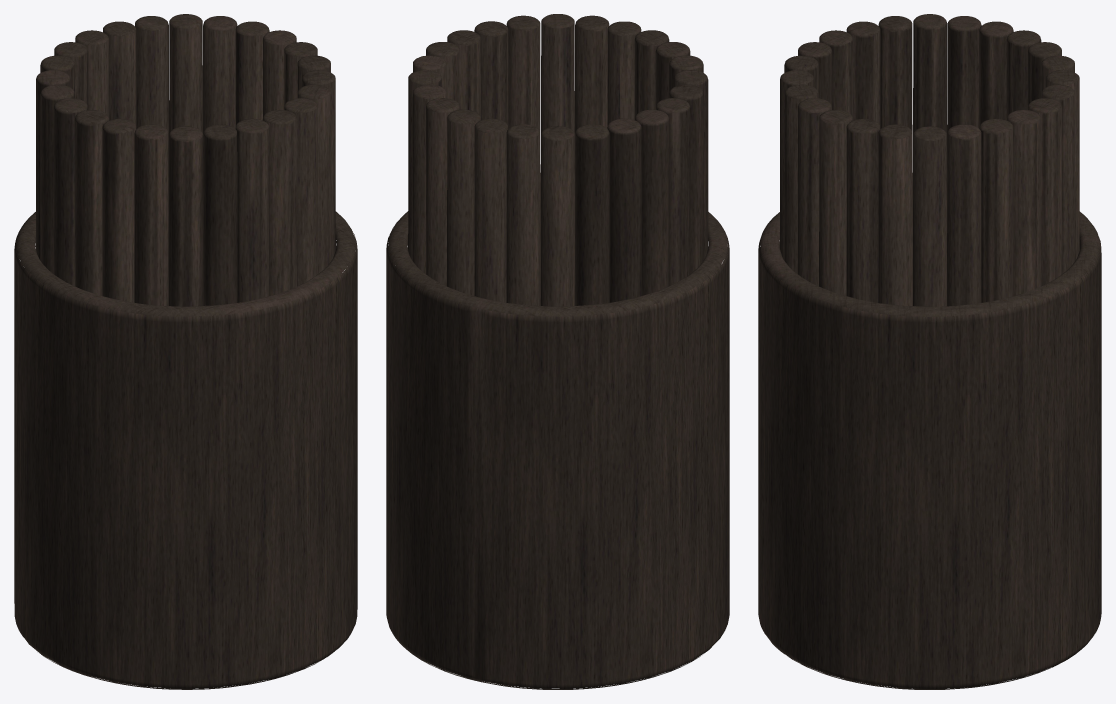
Rendered from queen-black.glb.
The picture shows the model from 3 angles, left to right: view 1: azimuth 30°, elevation 25°; view 2: azimuth 150°, elevation 25°; view 3: azimuth 270°, elevation 25°; orthographic projection.
Parts seen in each view (by area): view 1: Cylindra_Dáma_černý; view 2: Cylindra_Dáma_černý; view 3: Cylindra_Dáma_černý.
Part boxes in pixels (bbox=[...]): Cylindra_Dáma_černý: bbox=[14, 14, 357, 689]; Cylindra_Dáma_černý: bbox=[386, 14, 729, 689]; Cylindra_Dáma_černý: bbox=[758, 14, 1101, 689].
Size of the model in its own units: 0.5711 by 1 by 0.5715.
2 materials, 2 textured.
